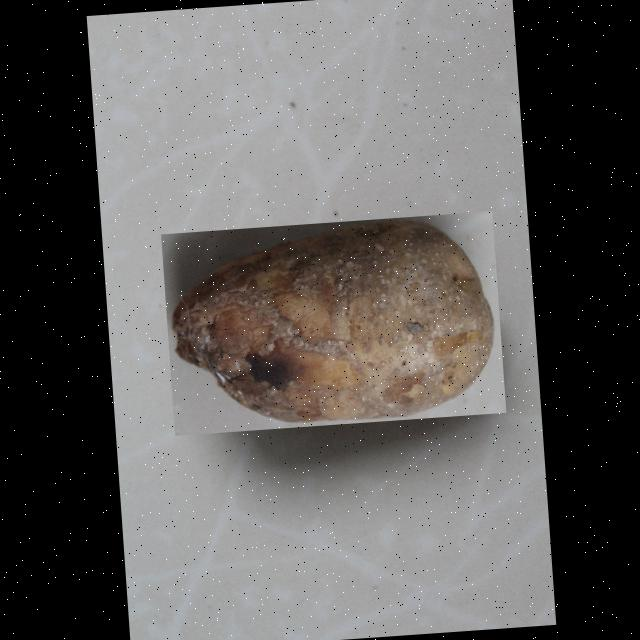Diseased-fungal potato: (160, 210, 504, 436)
